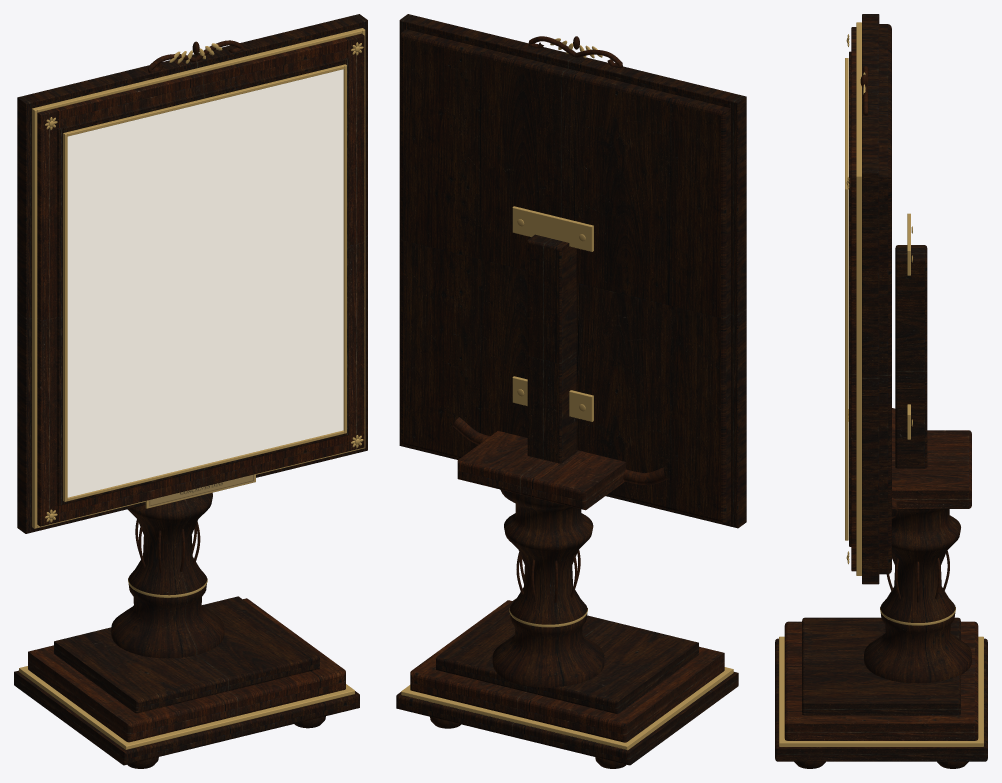
The model's file is quadro-chat.glb.
3 renders of one model, left to right at view 1: azimuth 30°, elevation 25°; view 2: azimuth 150°, elevation 25°; view 3: azimuth 270°, elevation 25°, orthographic. The views are drawn at different scales.
Visible parts, largest first — view 1: Tela_Chat, Pedestal_Torneado_Jacaranda_polido, Moldura_Entalhada_Madeira_entalhada, Moldura_Entalhada_Jacaranda_polido, Moldura_Entalhada_Latao_envelhecido, Pedestal_Torneado_Madeira_entalhada, Pedestal_Torneado_Latao_envelhecido, Inscricao_placa; view 2: Moldura_Entalhada_Jacaranda_polido, Pedestal_Torneado_Jacaranda_polido, Pedestal_Torneado_Madeira_entalhada, Ferragens_Latao_envelhecido, Pedestal_Torneado_Latao_envelhecido, Moldura_Entalhada_Madeira_entalhada; view 3: Pedestal_Torneado_Jacaranda_polido, Moldura_Entalhada_Jacaranda_polido, Pedestal_Torneado_Madeira_entalhada, Moldura_Entalhada_Latao_envelhecido, Moldura_Entalhada_Madeira_entalhada, Pedestal_Torneado_Latao_envelhecido, Ferragens_Latao_envelhecido.
Part boxes in pixels (x1,y1,x2,y2): Tela_Chat: [67, 69, 343, 497]; Pedestal_Torneado_Jacaranda_polido: [14, 492, 359, 768]; Moldura_Entalhada_Madeira_entalhada: [37, 33, 364, 526]; Moldura_Entalhada_Jacaranda_polido: [17, 14, 367, 533]; Moldura_Entalhada_Latao_envelhecido: [32, 28, 365, 528]; Pedestal_Torneado_Madeira_entalhada: [28, 519, 345, 742]; Pedestal_Torneado_Latao_envelhecido: [19, 578, 354, 749]; Inscricao_placa: [148, 474, 254, 507]; Moldura_Entalhada_Jacaranda_polido: [399, 14, 746, 528]; Pedestal_Torneado_Jacaranda_polido: [396, 234, 738, 768]; Pedestal_Torneado_Madeira_entalhada: [410, 417, 724, 742]; Ferragens_Latao_envelhecido: [512, 206, 593, 421]; Pedestal_Torneado_Latao_envelhecido: [401, 608, 733, 750]; Moldura_Entalhada_Madeira_entalhada: [528, 36, 622, 68]; Pedestal_Torneado_Jacaranda_polido: [775, 245, 987, 768]; Moldura_Entalhada_Jacaranda_polido: [849, 14, 891, 584]; Pedestal_Torneado_Madeira_entalhada: [784, 408, 978, 740]; Moldura_Entalhada_Latao_envelhecido: [845, 22, 865, 575]; Moldura_Entalhada_Madeira_entalhada: [851, 27, 868, 571]; Pedestal_Torneado_Latao_envelhecido: [779, 607, 983, 746]; Ferragens_Latao_envelhecido: [907, 213, 912, 439].
Size of the model in its own units: 1.19 by 2.26 by 0.67.
Materials: 6 (3 with a texture image).
